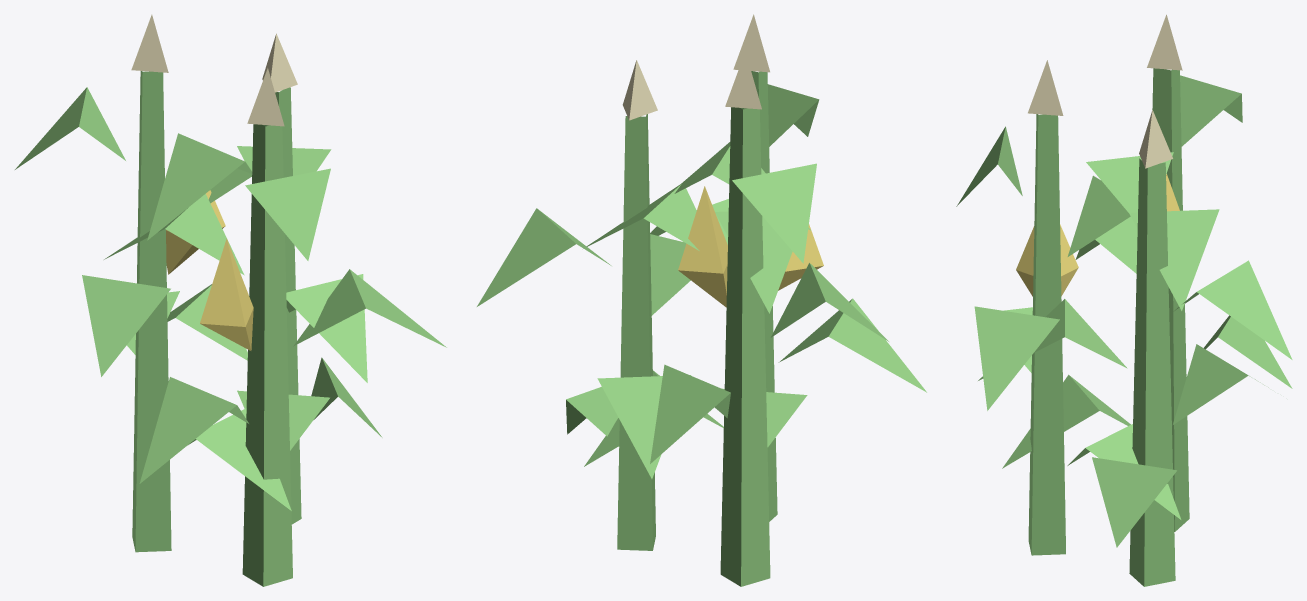
Rendered from corn.glb.
The picture shows the model from 3 angles, left to right: view 1: azimuth 30°, elevation 25°; view 2: azimuth 150°, elevation 25°; view 3: azimuth 270°, elevation 25°; orthographic projection. The views are drawn at different scales.
Parts seen in each view (by area): view 1: crop; view 2: crop; view 3: crop.
Boxes of the visible parts, x1=… form: crop: x1=15, y1=14, x2=446, y2=586; crop: x1=477, y1=14, x2=926, y2=586; crop: x1=956, y1=14, x2=1292, y2=586.
Size of the model in its own units: 0.96 by 1.6 by 0.96.
